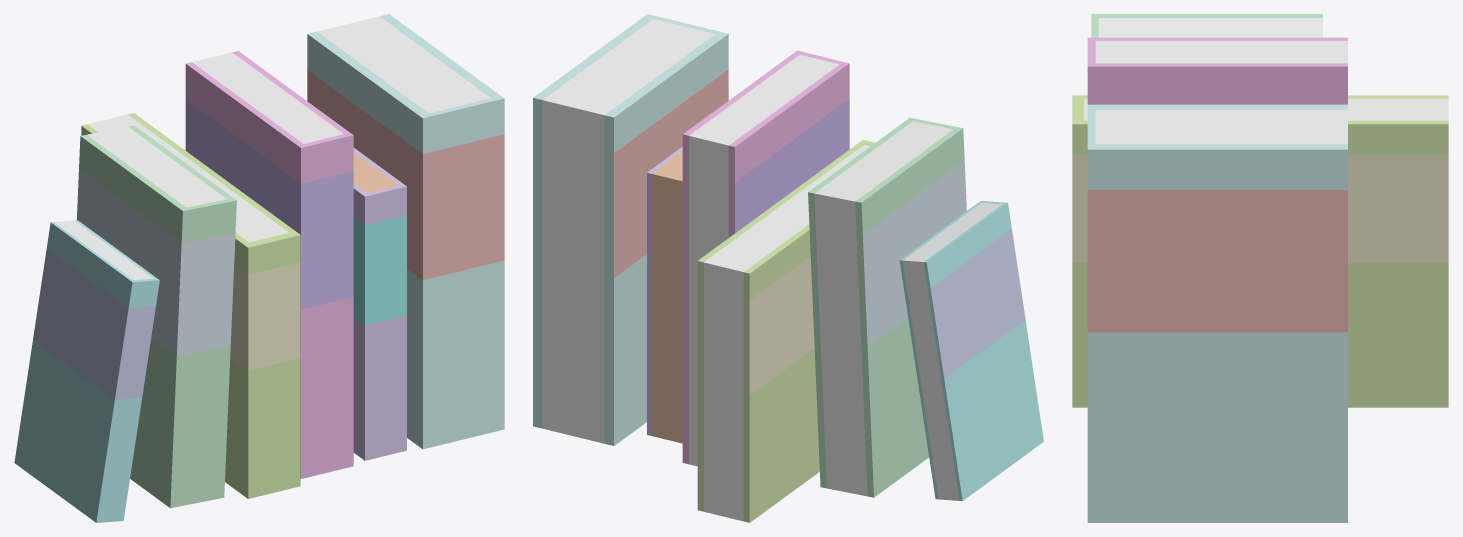
Rendered from books01.fbx.
The picture shows the model from 3 angles, left to right: view 1: azimuth 30°, elevation 25°; view 2: azimuth 150°, elevation 25°; view 3: azimuth 270°, elevation 25°; orthographic projection. The views are drawn at different scales.
Parts seen in each view (by area): view 1: Cube.014, Cube.016, Cube.011, Cube.015, Cube.013, Cube.012; view 2: Cube.014, Cube.016, Cube.013, Cube.015, Cube.011, Cube.012; view 3: Cube.014, Cube.013, Cube.011, Cube.016.
Part boxes in pixels (x1,y1,x2,y2): Cube.014: (307, 14, 504, 449); Cube.016: (76, 125, 236, 508); Cube.011: (185, 51, 353, 478); Cube.015: (14, 220, 159, 522); Cube.013: (81, 113, 300, 498); Cube.012: (353, 148, 406, 460); Cube.014: (533, 14, 728, 445); Cube.016: (808, 118, 966, 497); Cube.013: (697, 139, 875, 522); Cube.015: (899, 201, 1043, 501); Cube.011: (682, 50, 849, 466); Cube.012: (647, 147, 682, 443); Cube.014: (1087, 104, 1347, 522); Cube.013: (1072, 95, 1448, 407); Cube.011: (1087, 37, 1347, 104); Cube.016: (1091, 14, 1322, 37).
Bounding box in the file's own units: 76.75 × 60.63 × 54.94.
